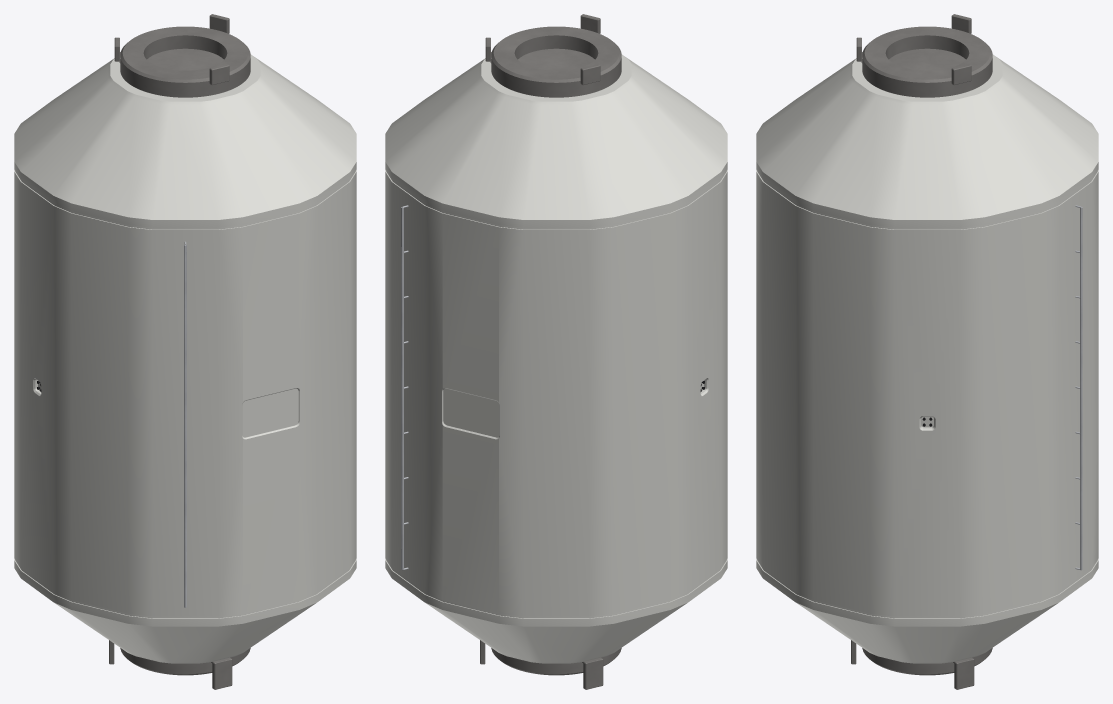
Rendered from ax_station_07_logistics.glb.
3 renders of one model, left to right at view 1: azimuth 30°, elevation 25°; view 2: azimuth 150°, elevation 25°; view 3: azimuth 270°, elevation 25°, orthographic.
Parts seen in each view (by area): view 1: pressure_hull, port_top, hatch_door_2, port_bottom, handrails, port_top_petals, port_bottom_petals; view 2: pressure_hull, port_top, hatch_door_2, handrails, port_bottom, port_top_petals, port_bottom_petals; view 3: pressure_hull, port_top, hatch_door_2, handrails, port_bottom, port_top_petals, port_bottom_petals.
Boxes of the visible parts, left/top/right/bottom form: pressure_hull: left=14, top=54, right=356, bottom=663; port_top: left=120, top=26, right=250, bottom=97; hatch_door_2: left=147, top=48, right=223, bottom=70; port_bottom: left=120, top=648, right=250, bottom=675; handrails: left=184, top=241, right=186, bottom=607; port_top_petals: left=114, top=14, right=229, bottom=85; port_bottom_petals: left=109, top=640, right=232, bottom=689; pressure_hull: left=385, top=54, right=727, bottom=663; port_top: left=491, top=26, right=621, bottom=97; hatch_door_2: left=518, top=48, right=594, bottom=70; handrails: left=401, top=205, right=408, bottom=570; port_bottom: left=491, top=648, right=621, bottom=675; port_top_petals: left=485, top=14, right=600, bottom=85; port_bottom_petals: left=480, top=640, right=603, bottom=689; pressure_hull: left=756, top=54, right=1098, bottom=663; port_top: left=862, top=26, right=992, bottom=97; hatch_door_2: left=889, top=48, right=965, bottom=70; handrails: left=1075, top=205, right=1082, bottom=570; port_bottom: left=862, top=648, right=992, bottom=675; port_top_petals: left=856, top=14, right=971, bottom=85; port_bottom_petals: left=851, top=640, right=974, bottom=689.
Bounding box in the file's own units: 4.2 × 8.37 × 4.2.
4 materials, 2 textured.
